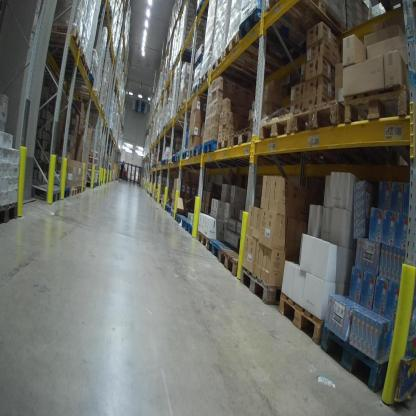pallet: (292, 95, 385, 172), (317, 317, 411, 392), (342, 79, 414, 168), (265, 2, 348, 44), (271, 283, 326, 344), (224, 32, 292, 78), (237, 8, 295, 54), (181, 67, 208, 163), (231, 129, 285, 165), (241, 266, 279, 305), (259, 112, 297, 150), (28, 176, 62, 213), (216, 134, 255, 164), (47, 21, 81, 51), (218, 246, 244, 285), (68, 69, 100, 100), (48, 45, 87, 67), (202, 138, 235, 163), (53, 57, 91, 78), (204, 237, 230, 262), (1, 200, 21, 226), (52, 176, 71, 197), (208, 54, 225, 77), (194, 229, 212, 249), (193, 142, 205, 158), (184, 219, 194, 237), (187, 148, 196, 163), (68, 183, 77, 198), (178, 214, 186, 227), (165, 201, 171, 214), (174, 210, 180, 222), (76, 183, 82, 194), (169, 208, 175, 218), (81, 182, 87, 191)
